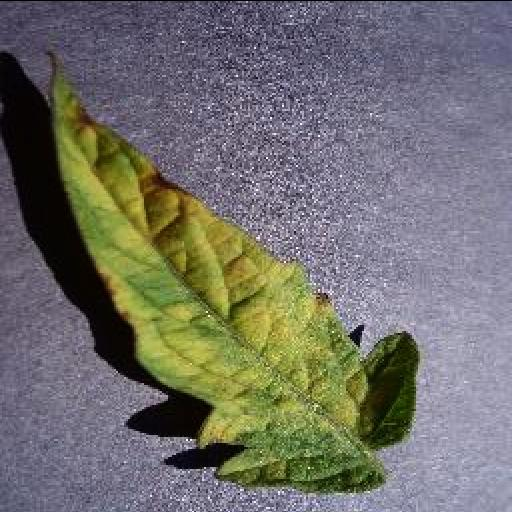disease_tomato: (48, 58, 422, 492)
